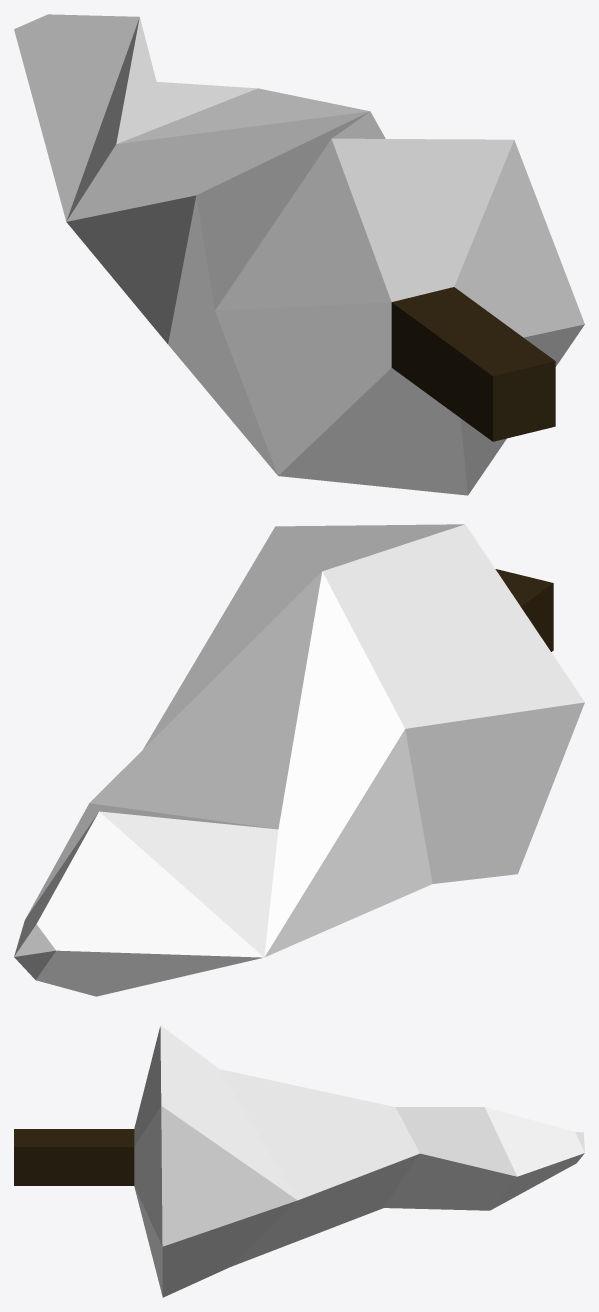
The model's file is winter_night_tree_5.fbx.
The picture shows the model from 3 angles, top to bottom: view 1: azimuth 30°, elevation 25°; view 2: azimuth 150°, elevation 25°; view 3: azimuth 270°, elevation 25°; orthographic projection. The views are drawn at different scales.
Visible parts, largest first — view 1: winter_night_tree_5; view 2: winter_night_tree_5; view 3: winter_night_tree_5.
Part boxes in pixels (box(x1,y1,x2,y2)): winter_night_tree_5: box(14, 14, 584, 495); winter_night_tree_5: box(14, 524, 584, 996); winter_night_tree_5: box(14, 1025, 584, 1297).
Size of the model in its own units: 90.06 by 90.87 by 202.
